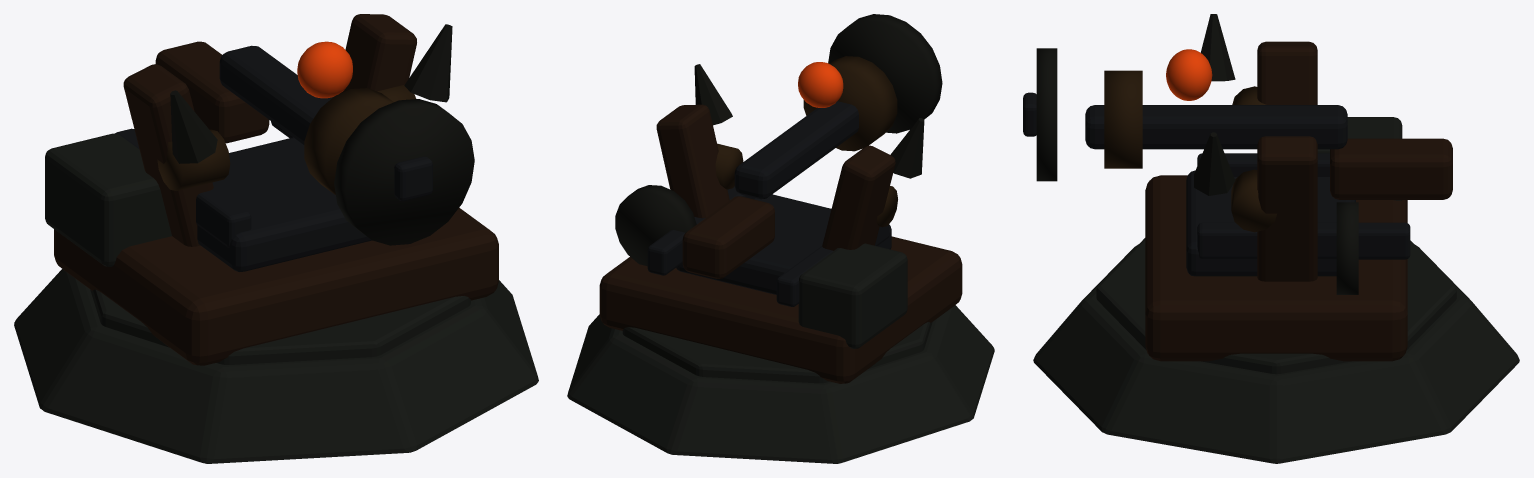
The model's file is TowerBounce3_pose.obj.
3 renders of one model, left to right at view 1: azimuth 30°, elevation 25°; view 2: azimuth 150°, elevation 25°; view 3: azimuth 270°, elevation 25°, orthographic. The views are drawn at different scales.
Visible parts, largest first — view 1: cut_stone_socket_lower_course, heavy_oak_table, throwing_disc, iron_swivel, stone_ammunition_chest, cut_stone_socket_upper_course, oak_throwing_cheek, iron_throw_arm, counterweight_beam, oak_throwing_cheek.001, bronze_sling_drum, amber_trajectory_lens (+5 smaller); view 2: cut_stone_socket_lower_course, heavy_oak_table, stone_ammunition_chest, throwing_disc, iron_throw_arm, cut_stone_socket_upper_course, oak_throwing_cheek.001, counterweight_beam, iron_swivel, oak_throwing_cheek, reserve_disc, bronze_sling_drum (+7 smaller); view 3: cut_stone_socket_lower_course, heavy_oak_table, iron_throw_arm, oak_throwing_cheek.001, cut_stone_socket_upper_course, counterweight_beam, iron_stabiliser.001, iron_swivel, bronze_sling_drum, oak_throwing_cheek, throwing_disc, reserve_disc (+7 smaller).
Boxes of the visible parts, x1,y1,x2,y2 form: cut_stone_socket_lower_course: (14, 269, 538, 463); heavy_oak_table: (54, 207, 498, 365); throwing_disc: (334, 99, 474, 245); iron_swivel: (197, 137, 371, 271); stone_ammunition_chest: (45, 133, 171, 266); cut_stone_socket_upper_course: (90, 289, 470, 364); oak_throwing_cheek: (123, 64, 213, 246); iron_throw_arm: (219, 45, 330, 144); counterweight_beam: (155, 41, 269, 143); oak_throwing_cheek.001: (339, 14, 416, 93); bronze_sling_drum: (304, 88, 393, 194); amber_trajectory_lens: (297, 41, 352, 98); cut_stone_socket_lower_course: (567, 305, 994, 463); heavy_oak_table: (599, 236, 962, 383); stone_ammunition_chest: (798, 243, 907, 348); throwing_disc: (828, 14, 942, 133); iron_throw_arm: (734, 101, 858, 199); cut_stone_socket_upper_course: (622, 322, 932, 383); oak_throwing_cheek.001: (656, 104, 729, 218); counterweight_beam: (682, 196, 774, 278); iron_swivel: (676, 194, 891, 294); oak_throwing_cheek: (822, 145, 895, 250); reserve_disc: (615, 185, 696, 266); bronze_sling_drum: (803, 56, 897, 151); cut_stone_socket_lower_course: (1033, 244, 1519, 463); heavy_oak_table: (1145, 175, 1407, 361); iron_throw_arm: (1085, 105, 1347, 149); oak_throwing_cheek.001: (1257, 136, 1317, 281); cut_stone_socket_upper_course: (1096, 238, 1456, 374); counterweight_beam: (1330, 138, 1452, 199); iron_stabiliser.001: (1197, 222, 1410, 259); iron_swivel: (1186, 170, 1355, 276); bronze_sling_drum: (1104, 70, 1142, 168); oak_throwing_cheek: (1257, 41, 1317, 104); throwing_disc: (1036, 48, 1057, 181); reserve_disc: (1336, 202, 1358, 294).
Bounding box in the file's own units: 1.78 × 1.25 × 1.82.
